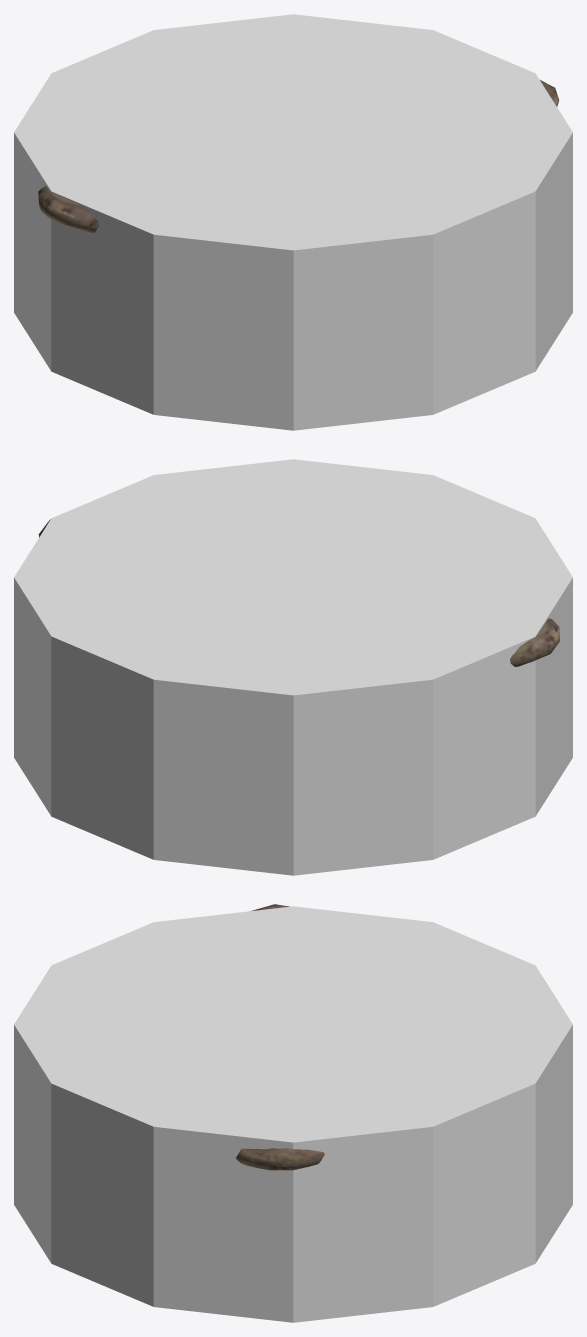
Rendered from kylix_sanctuary_lite.glb.
3 renders of one model, top to bottom at view 1: azimuth 30°, elevation 25°; view 2: azimuth 150°, elevation 25°; view 3: azimuth 270°, elevation 25°, orthographic.
Visible parts, largest first — view 1: col_kylix_sanctuary, kylix_sanctuary; view 2: col_kylix_sanctuary, kylix_sanctuary; view 3: col_kylix_sanctuary, kylix_sanctuary.
Part boxes in pixels (x1=…): col_kylix_sanctuary: x1=14, y1=14, x2=572, y2=430; kylix_sanctuary: x1=38, y1=80, x2=559, y2=233; col_kylix_sanctuary: x1=14, y1=459, x2=572, y2=875; kylix_sanctuary: x1=38, y1=519, x2=559, y2=666; col_kylix_sanctuary: x1=14, y1=906, x2=572, y2=1322; kylix_sanctuary: x1=236, y1=904, x2=324, y2=1170.
Bounding box in the file's own units: 0.2193 × 0.0743 × 0.2089.
1 material, 1 textured.
